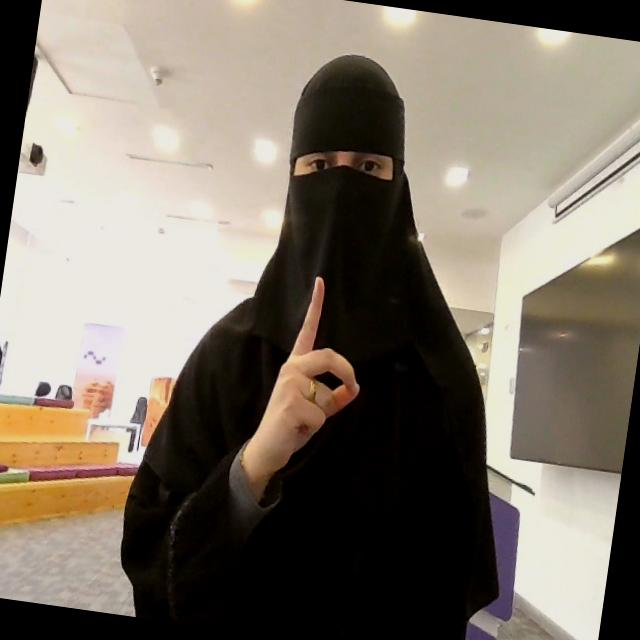emergency: (238, 268, 376, 492)
